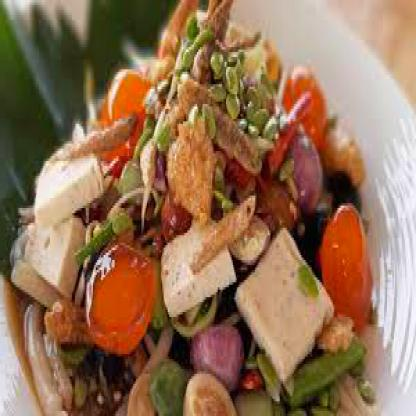Papaya Salad: (21, 20, 399, 414)
